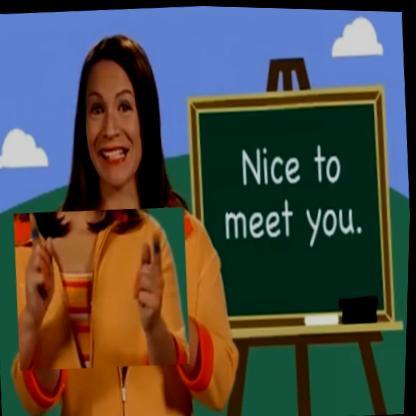NiceToMeetYou: (11, 201, 196, 375)
